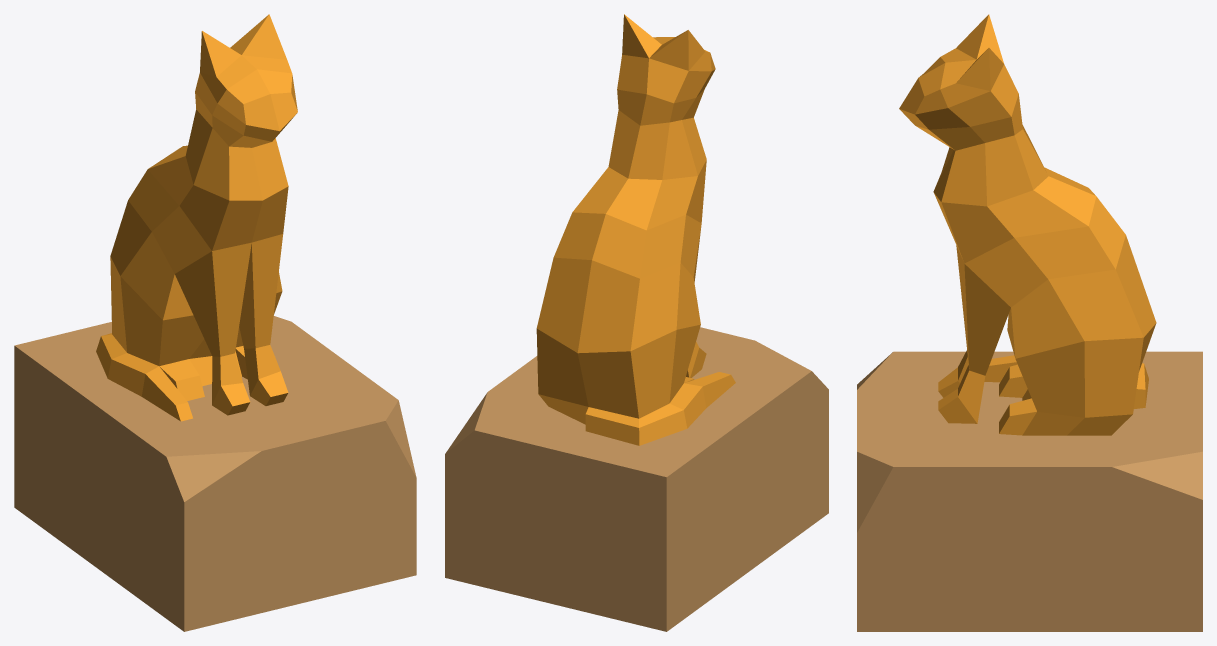
Rendered from egypt_egypt-statue-cat.fbx.
3 views of the same model, side by side, from view 1: azimuth 30°, elevation 25°; view 2: azimuth 150°, elevation 25°; view 3: azimuth 270°, elevation 25° (orthographic). The views are drawn at different scales.
Parts seen in each view (by area): view 1: egypt_egypt_statue_cat; view 2: egypt_egypt_statue_cat; view 3: egypt_egypt_statue_cat.
Boxes of the visible parts, <box> form: egypt_egypt_statue_cat: <box>14,14,416,631</box>; egypt_egypt_statue_cat: <box>445,14,828,631</box>; egypt_egypt_statue_cat: <box>857,14,1202,631</box>.
Bounding box in the file's own units: 91.07 × 200 × 115.
